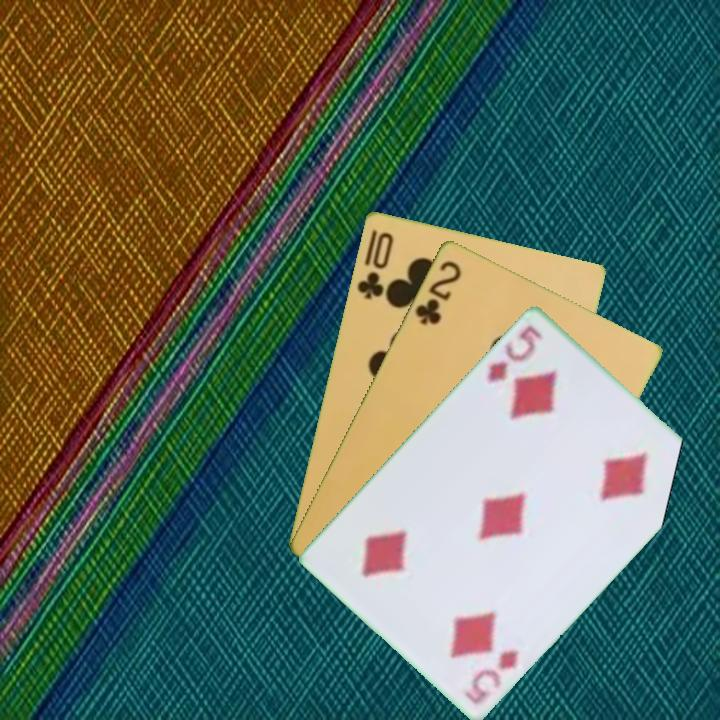10c: (353, 228, 396, 302)
2c: (411, 256, 464, 327)
5d: (483, 321, 547, 386), (461, 645, 522, 707)
